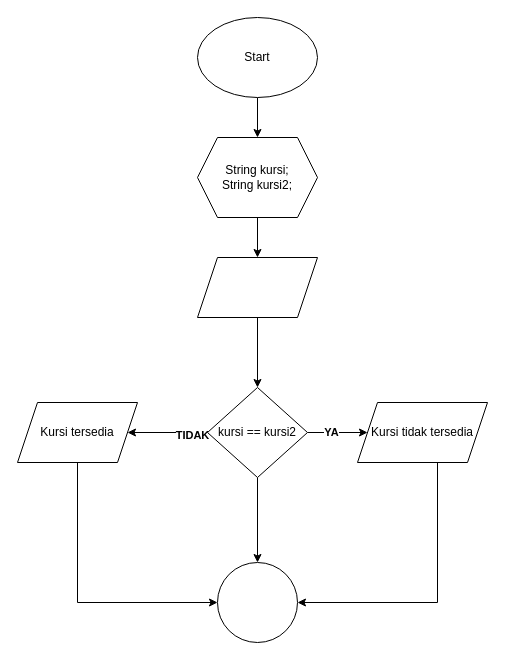
The diagram is 505 pixels wide and 660 high, and some of its shapes have lost their labels. The shapes that lost their labels are listed below. From the top down, each one's centre as x and y in pixels, then its label:
At (257,287): "Kursi duduk".
At (257,602): "Done".
